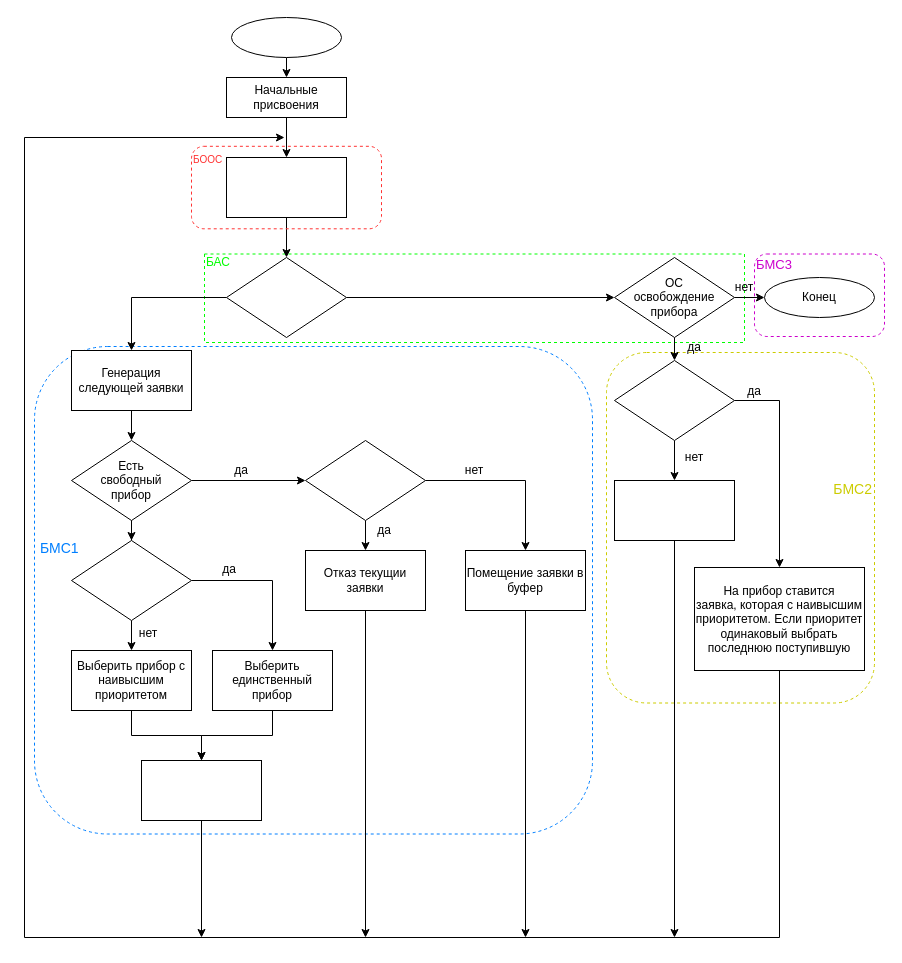
Image size: 902x963. Some labels were removed from this diagram. The shapes that lost their labels are listed below. From the top down, each one's centre as x and y in pixels, then its label:
[286,37]: Начало
[286,187]: Выбирается ОС с приоритетом 0 и минимальным Тос
[286,297]: ОС поступление заявки
[674,400]: Буфер пуст
[365,480]: Буфер полон
[674,510]: Прибор в простой. Признак = 1
[131,580]: Свободный прибор = 1
[201,790]: Заявка помещается на прибор
